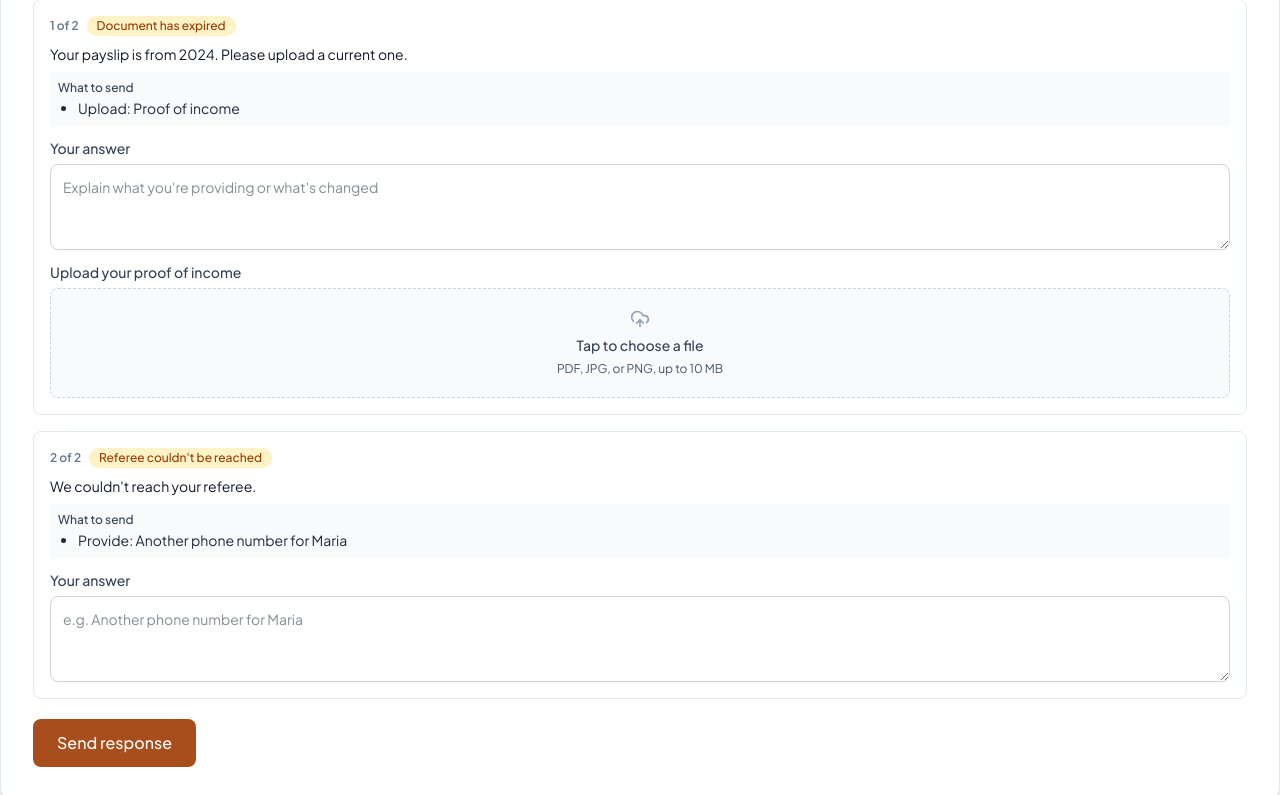
Test: RespondForm › requires an answer for every request and the requested document
The image size is (1280, 795).
(page scrolled)
Step 1. Click the button "Send response" → [114, 743], box x1=33 y1=719 x2=196 y2=767
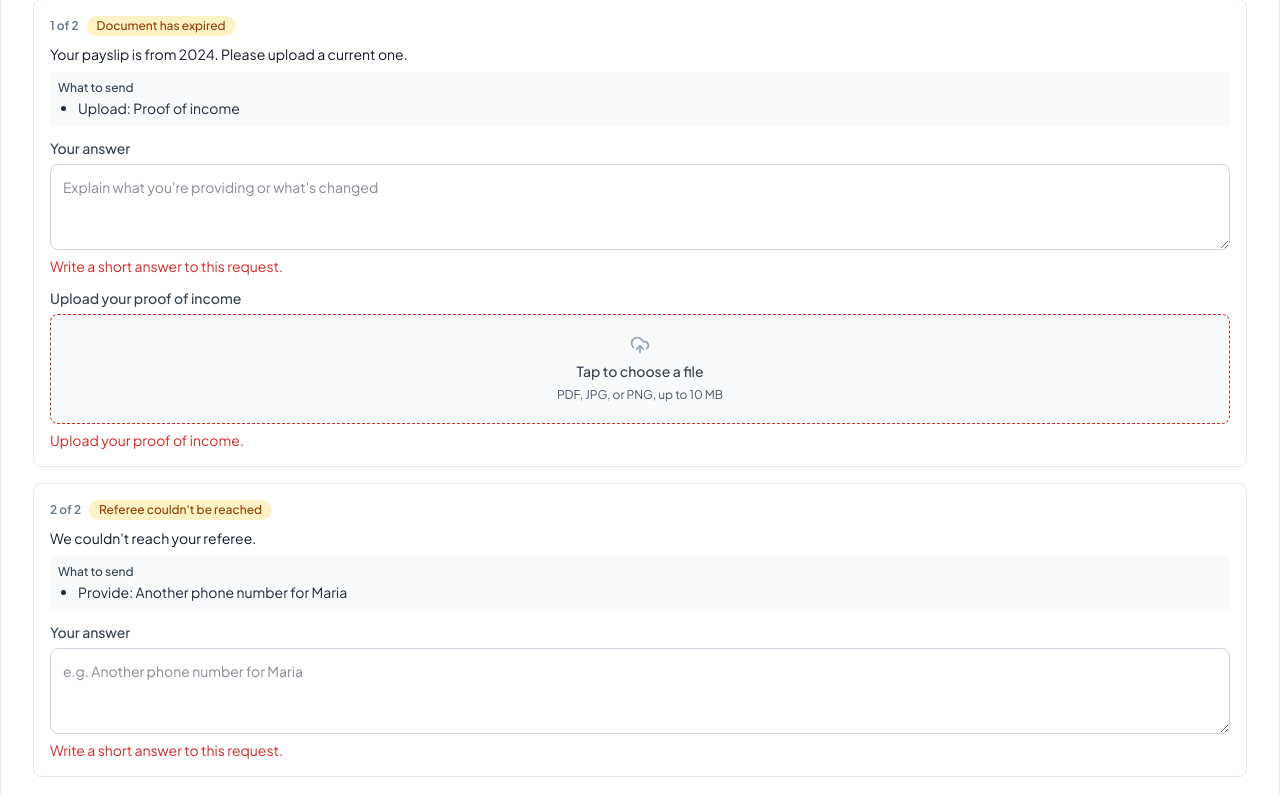
Expected: the text "Write a short answer to this request." is shown 2 times, x1=50 y1=257 x2=283 y2=275; x1=50 y1=741 x2=283 y2=759
Expected: the text "Upload your proof of income." is shown, x1=50 y1=431 x2=244 y2=449
